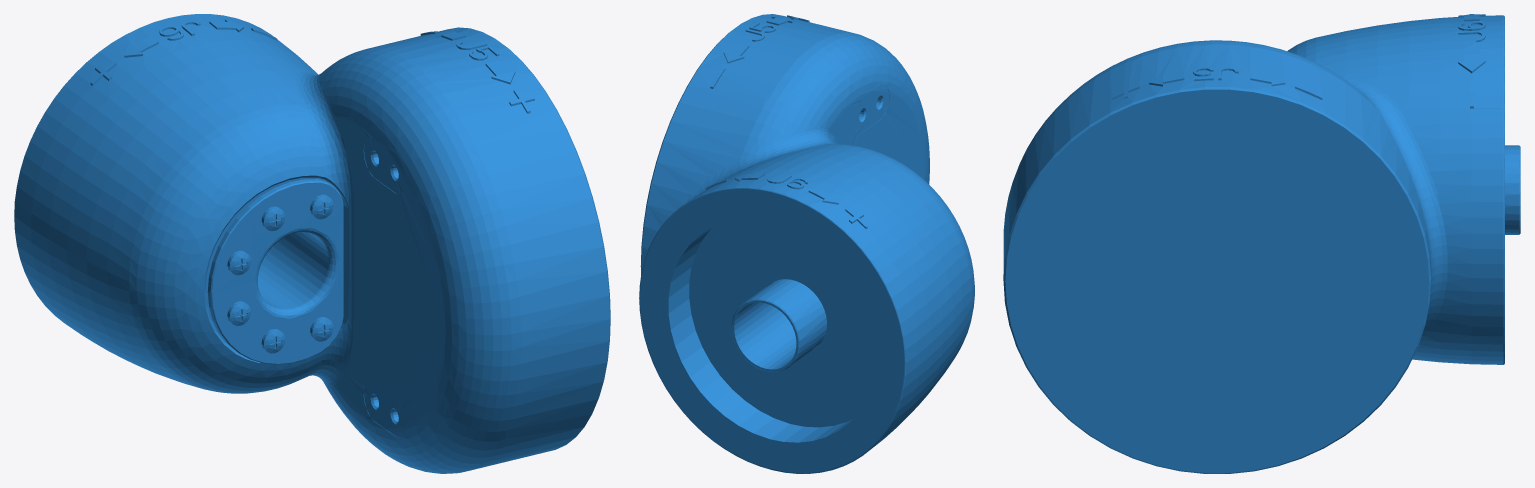
File: EpsonVT6LLink5.dae
3 renders of one model, left to right at view 1: azimuth 30°, elevation 25°; view 2: azimuth 150°, elevation 25°; view 3: azimuth 270°, elevation 25°, orthographic. The views are drawn at different scales.
Parts seen in each view (by area): view 1: epson_link5; view 2: epson_link5; view 3: epson_link5.
Part boxes in pixels (x1,y1,x2,y2): epson_link5: (14,14,610,473); epson_link5: (639,14,974,473); epson_link5: (1003,14,1520,473).
Bounding box in the file's own units: 0.1005 × 0.133 × 0.1105.
